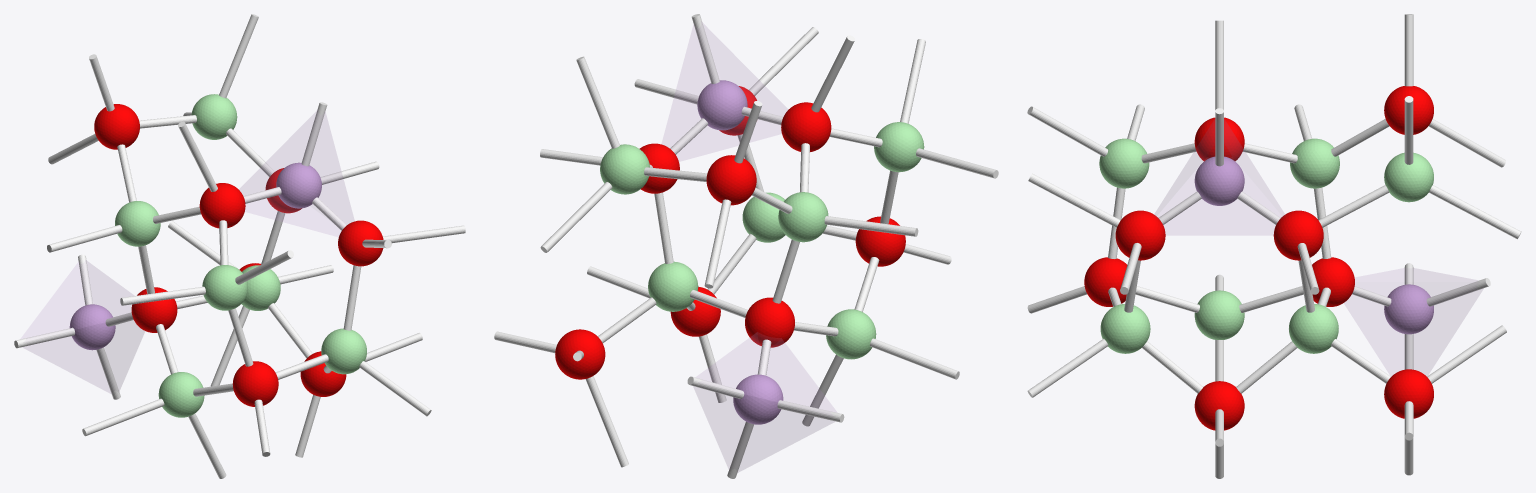
The model's file is structure_mpstyle.glb.
3 views of the same model, side by side, from view 1: azimuth 30°, elevation 25°; view 2: azimuth 150°, elevation 25°; view 3: azimuth 270°, elevation 25° (orthographic). The views are drawn at different scales.
Visible parts, largest first — view 1: world; view 2: world; view 3: world.
Boxes of the visible parts, x1,y1,x2,y2 form: world: [14, 14, 465, 478]; world: [494, 14, 998, 478]; world: [1027, 14, 1521, 478].
Size of the model in its own units: 6.79 by 7.14 by 7.9.
